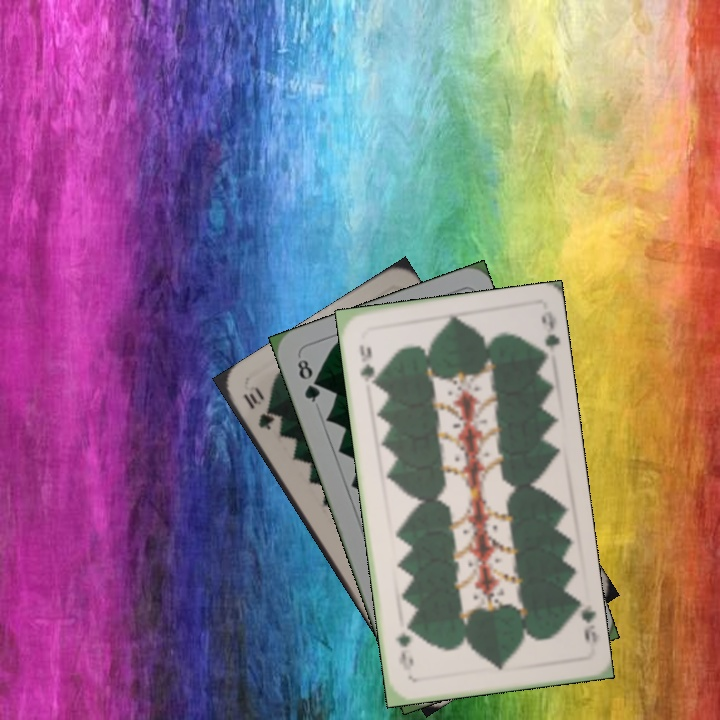G10: (238, 384, 277, 433)
G8: (293, 354, 323, 406)
G9: (569, 596, 600, 646), (355, 340, 379, 390)
